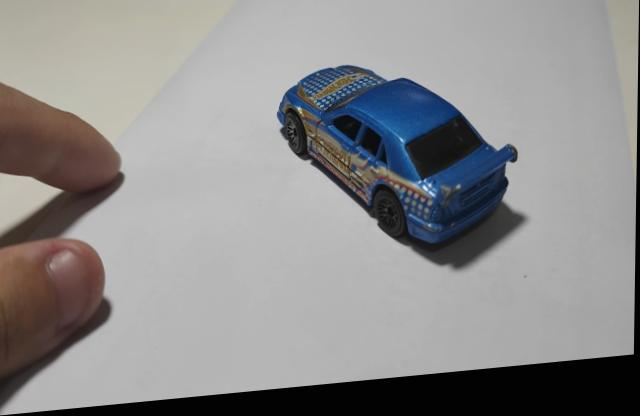04_MERZEDES: (276, 73, 519, 262)
